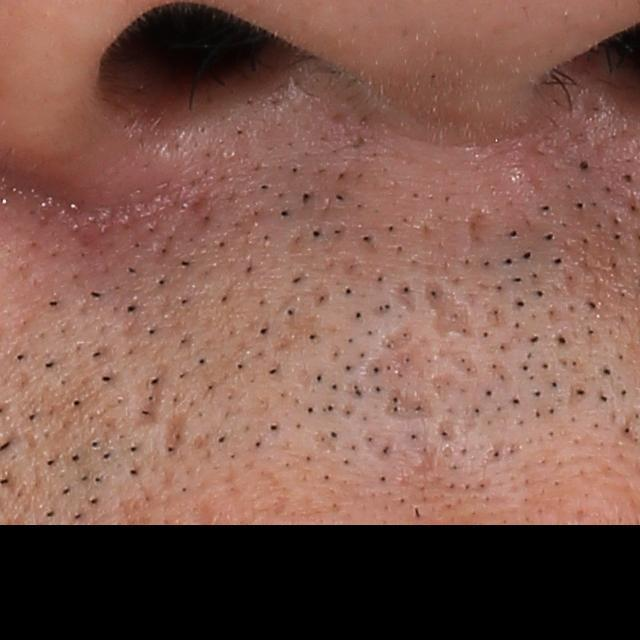atrophic_scar: (429, 356, 525, 444), (359, 335, 441, 379), (425, 278, 478, 340), (377, 385, 442, 429), (132, 361, 172, 428), (462, 207, 503, 267), (159, 407, 193, 459), (434, 346, 480, 379), (390, 280, 418, 318)
